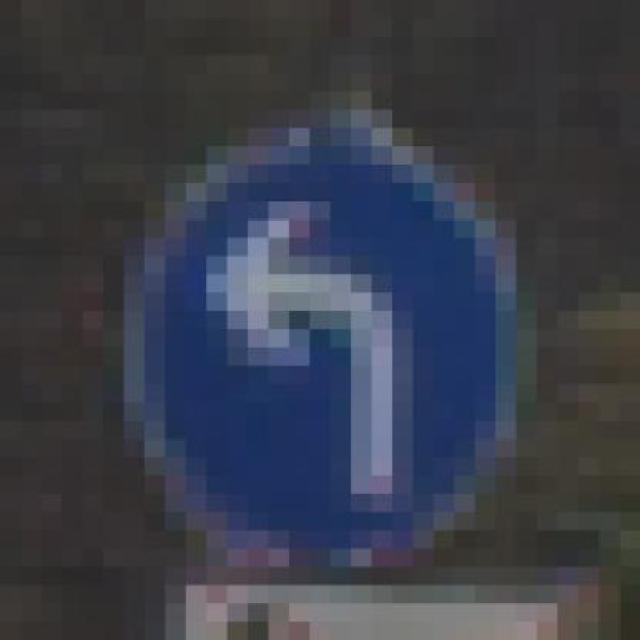Turn left ahead: (83, 128, 537, 568)
